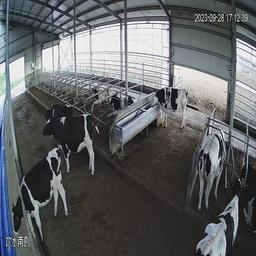cow: (9, 147, 78, 234), (191, 182, 244, 256), (41, 111, 97, 177), (196, 112, 228, 204), (146, 82, 190, 131), (108, 91, 133, 113), (88, 80, 106, 109)
